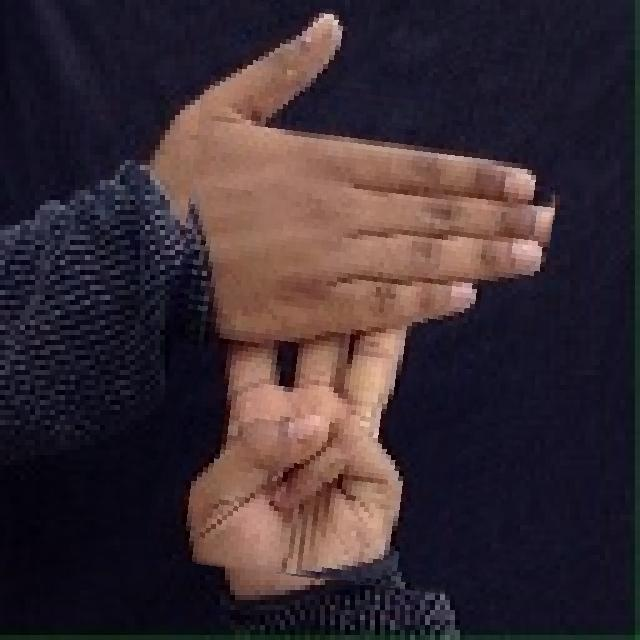M: (161, 4, 559, 592)
